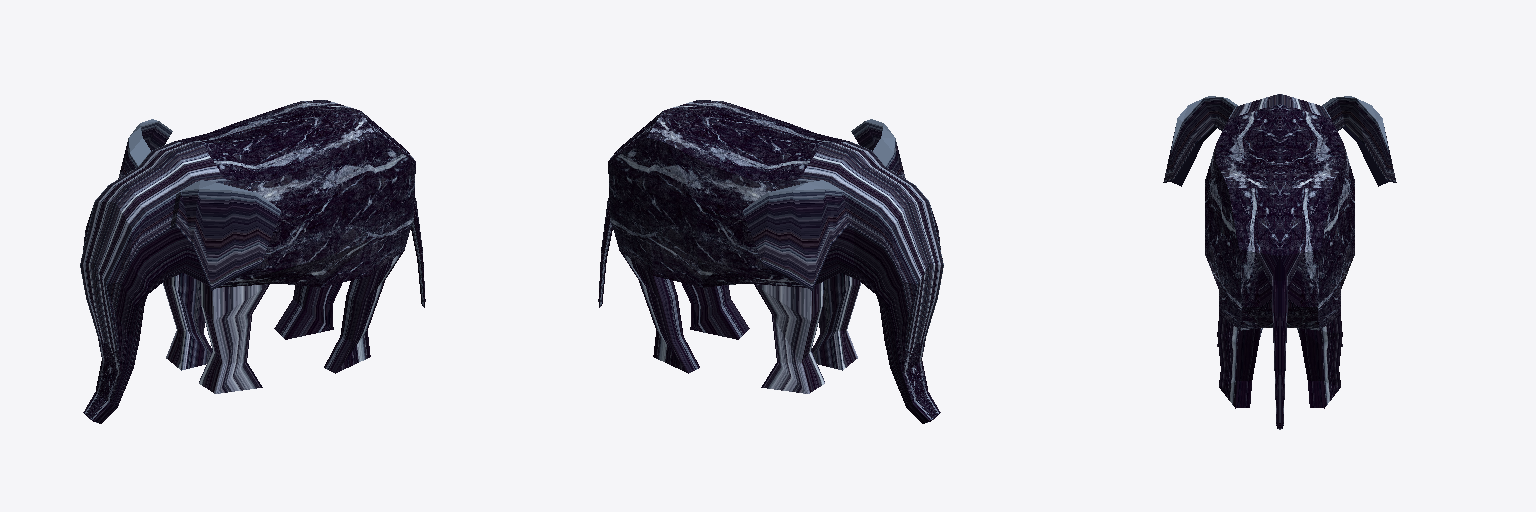
The picture shows the model from 3 angles: view 1: azimuth 30°, elevation 25°; view 2: azimuth 150°, elevation 25°; view 3: azimuth 270°, elevation 25°; orthographic projection.
Visible parts, largest first — view 1: Box001; view 2: Box001; view 3: Box001.
Part boxes in pixels (left/top/right/bottom): Box001: left=80, top=100, right=425, bottom=423; Box001: left=598, top=100, right=943, bottom=423; Box001: left=1163, top=94, right=1396, bottom=429.
Size of the model in its own units: 130 by 92.98 by 77.95.
1 materials, 1 textured.